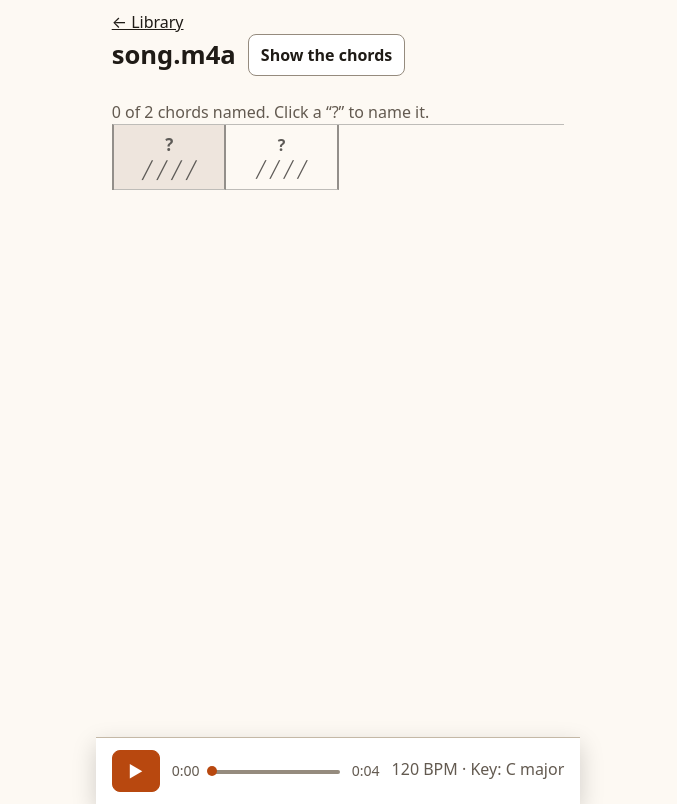
Test: clicking a chord you have already named shows it, rather than an empty selection
Expected: the text "?" is shown 2 times, [165, 132, 173, 157]; [278, 133, 285, 157]
Click the button named "hidden chord" at (169, 157), box [110, 123, 228, 191]
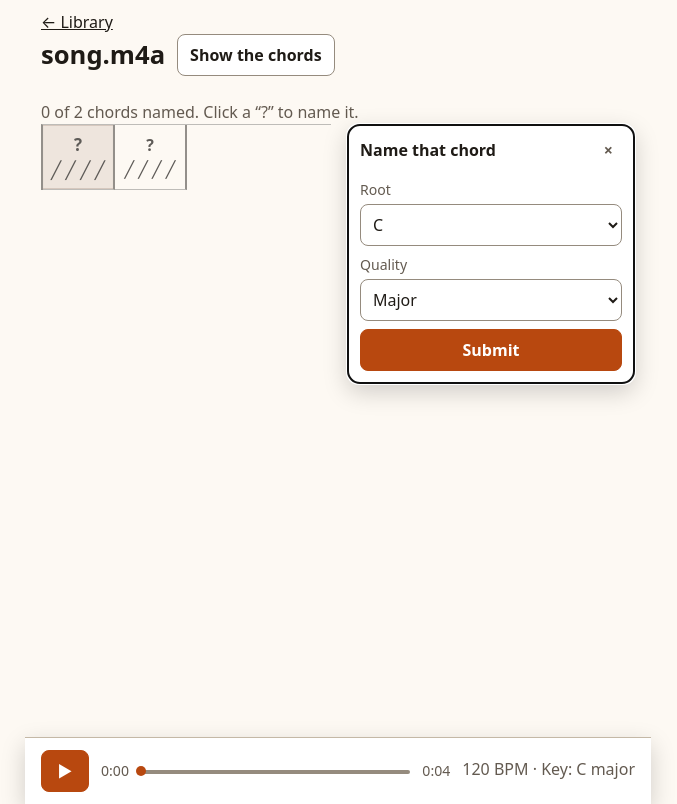
Select "C" in the dropdown labelled "Root" at (491, 225), box [360, 204, 622, 246]
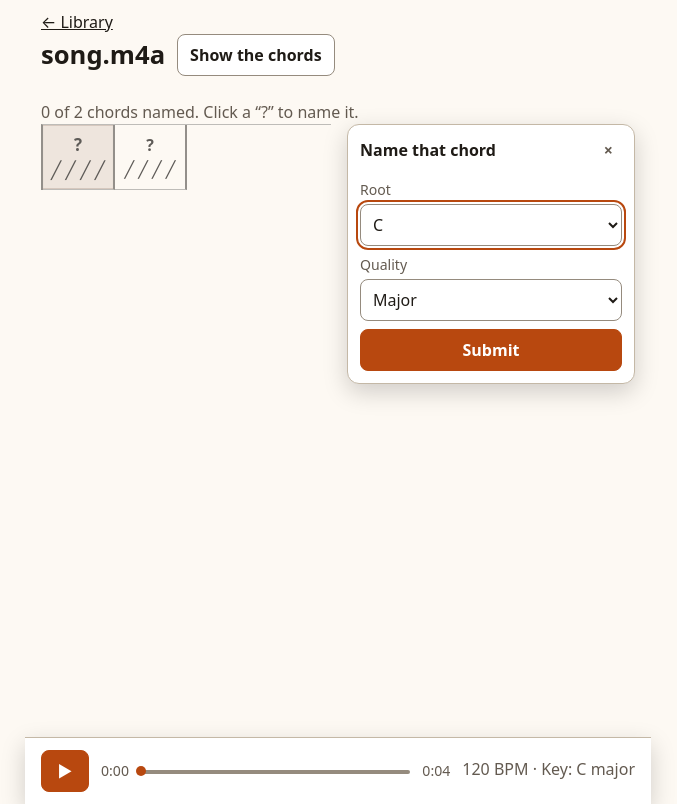
Select "Major" in the dropdown labelled "Quality" at (491, 300), box [360, 279, 622, 321]
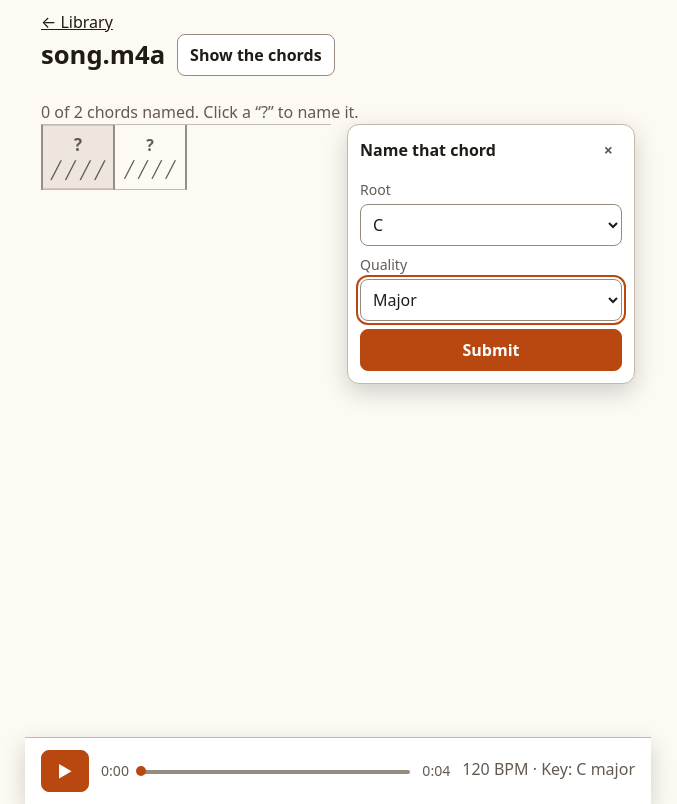
Click the button "Submit" at (491, 350), box [360, 329, 622, 371]
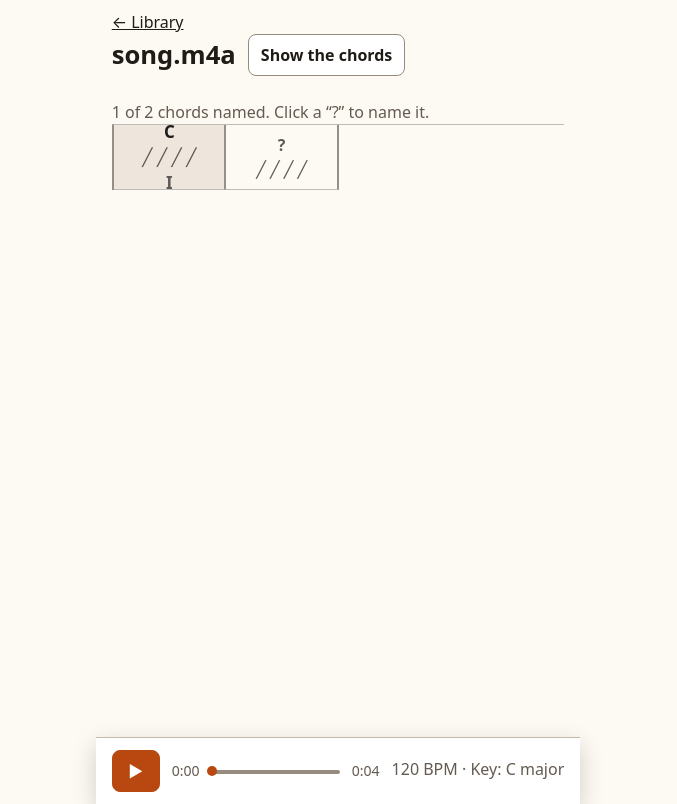
Now the text "Name that chord" is gone
Back to a chord that is already named: it says so, instead of selecting into nothing.
Click the button named "hidden chord" at (169, 157), box [110, 123, 228, 191]
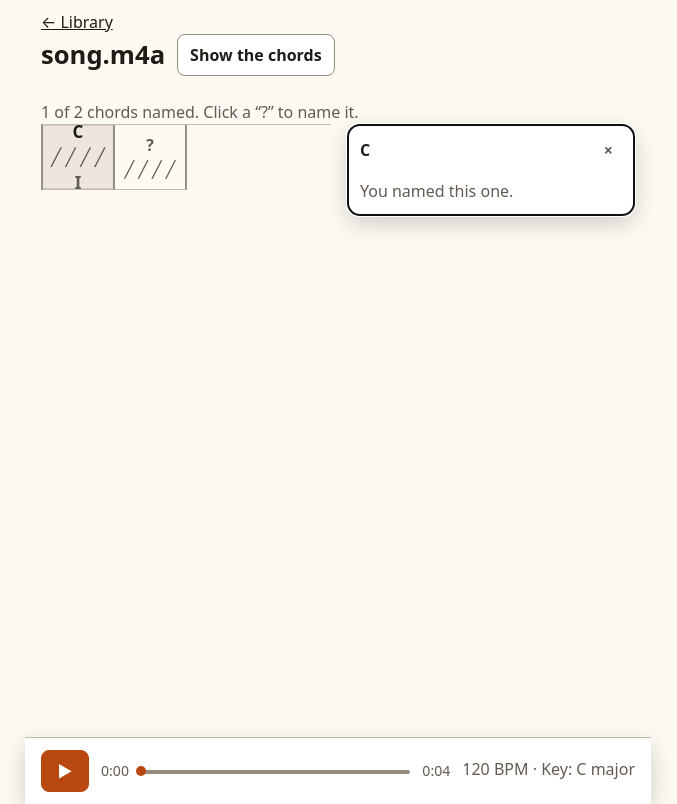
Expected: the text "Name that chord" is not shown
Now the text "You named this one." is shown, box [360, 180, 513, 202]
